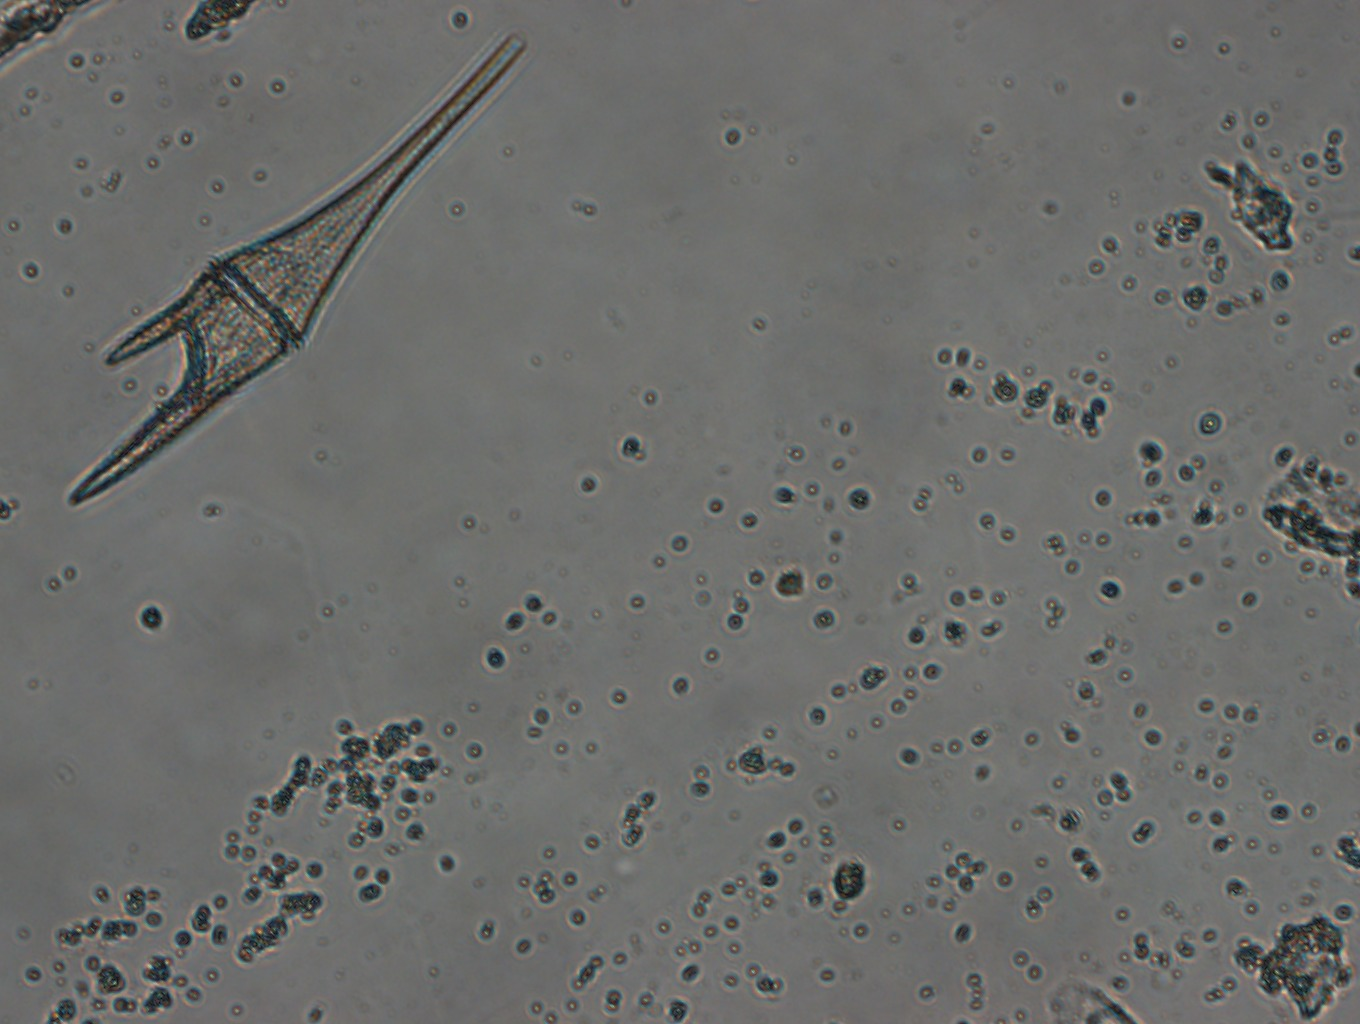ceratium furca: (61, 25, 531, 507)
